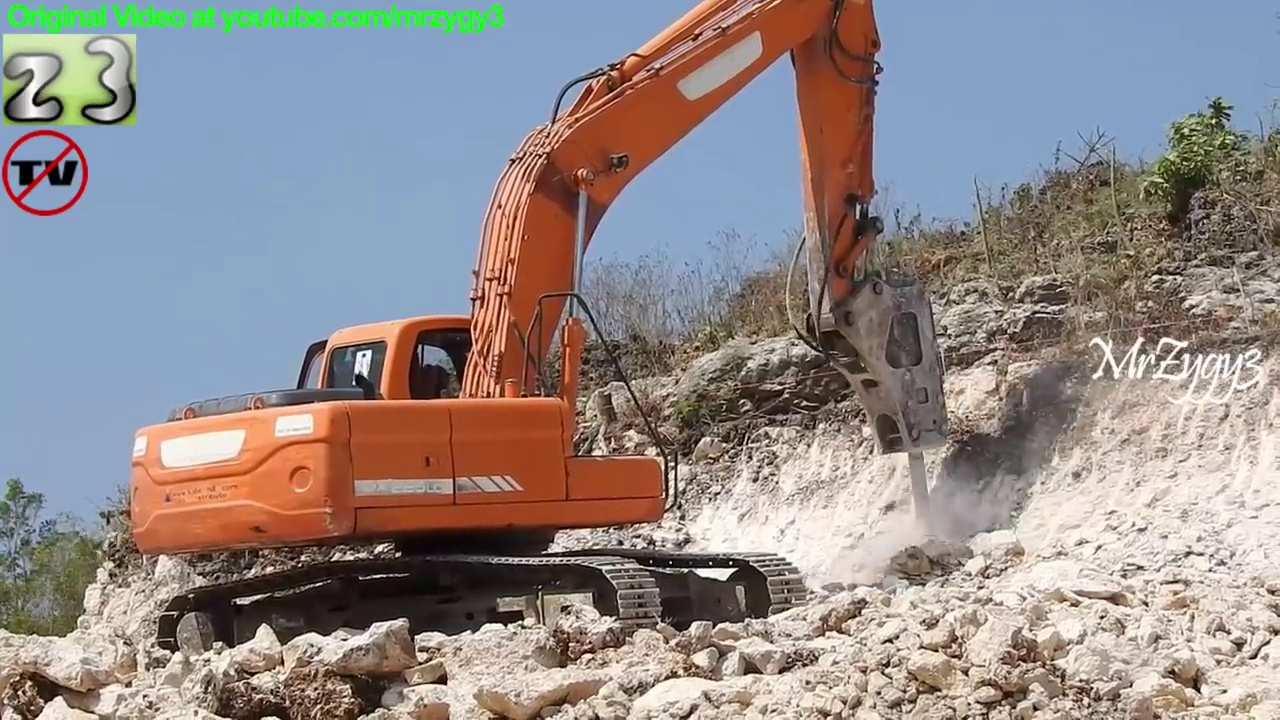excavator breaker: (120, 1, 964, 674)
